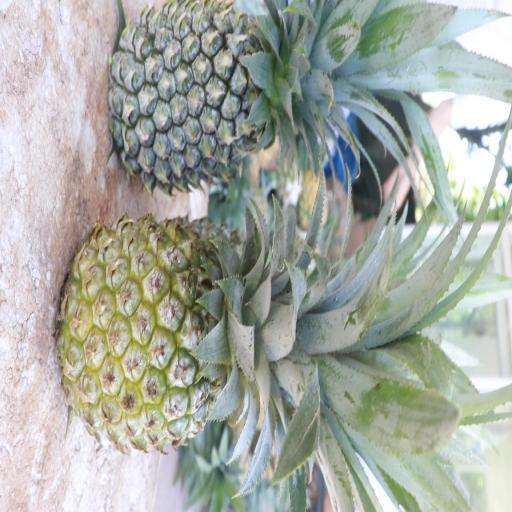------------------------------: (53, 210, 345, 460)
